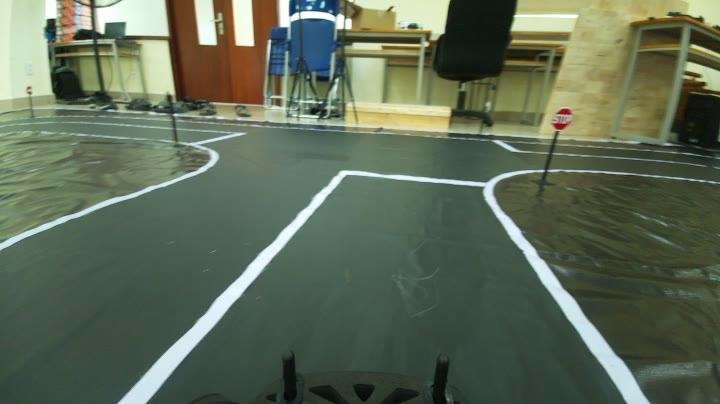stop: (547, 106, 580, 134)
